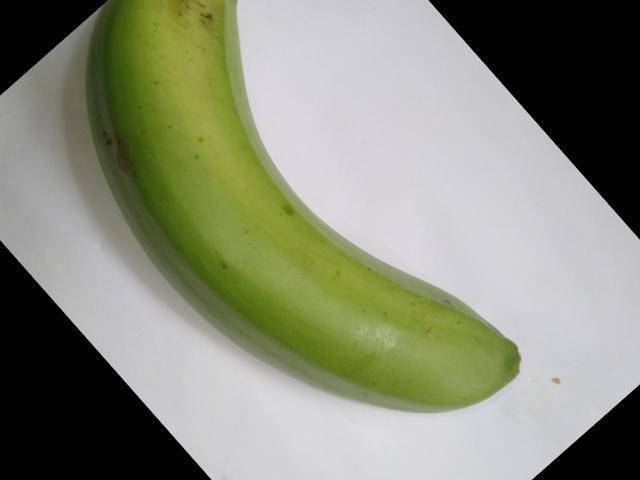freshunripe: (76, 0, 538, 439)
